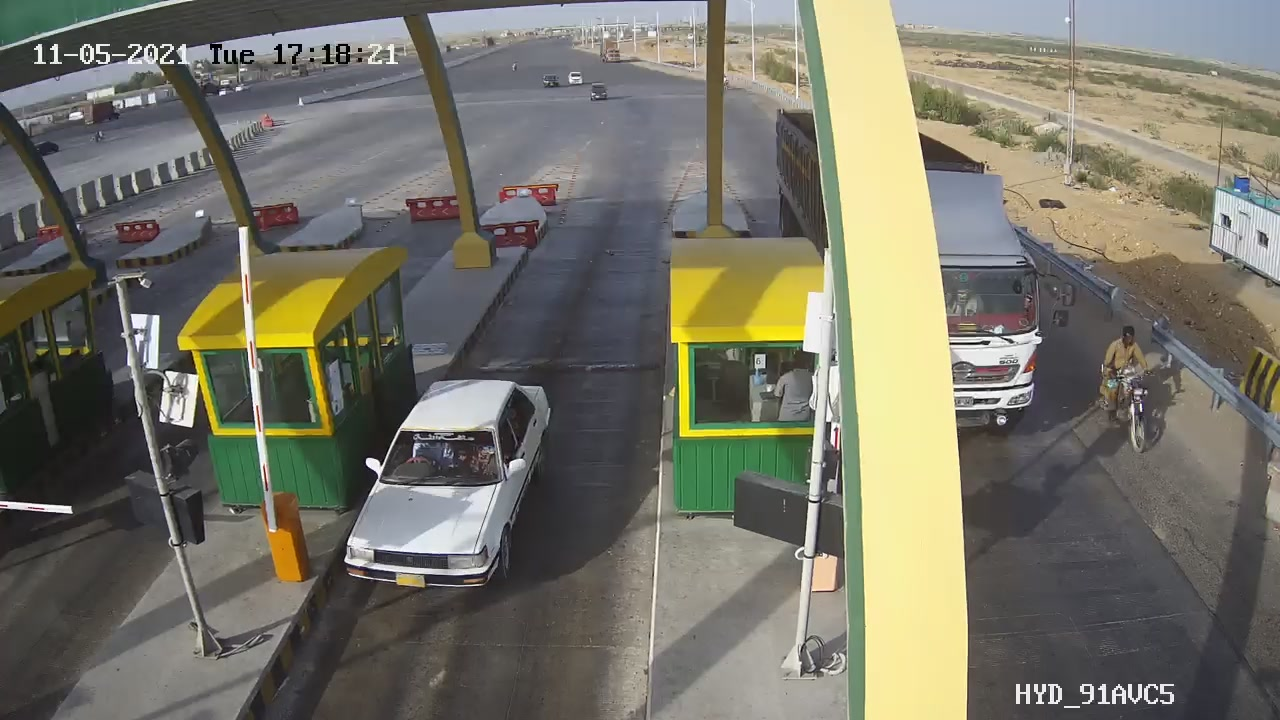F1: (325, 360, 572, 612)
